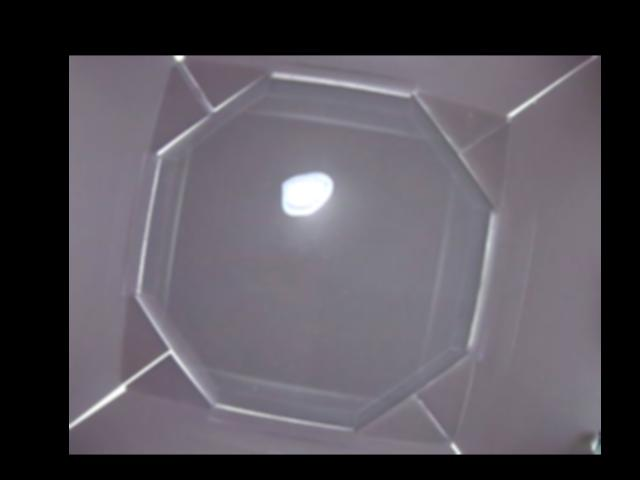Pebble: (282, 169, 333, 214)
